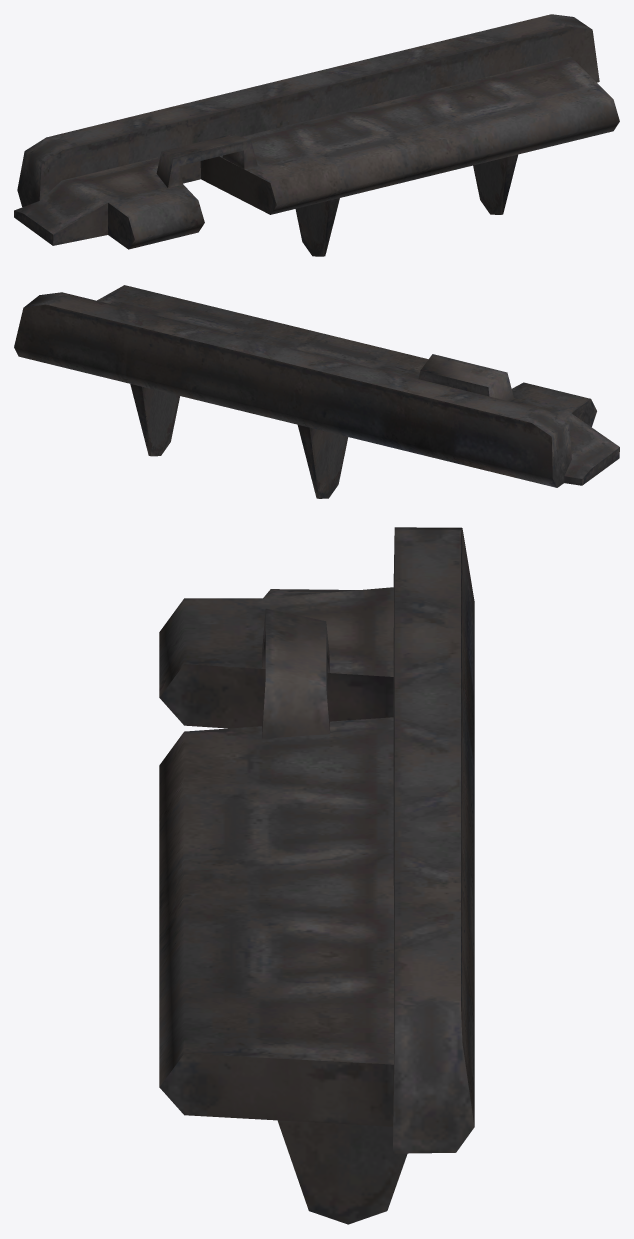
The model's file is Tiger_Track.FBX.
The picture shows the model from 3 angles, top to bottom: view 1: azimuth 30°, elevation 25°; view 2: azimuth 150°, elevation 25°; view 3: azimuth 270°, elevation 25°; orthographic projection. The views are drawn at different scales.
Visible parts, largest first — view 1: Tiger1_track; view 2: Tiger1_track; view 3: Tiger1_track.
Boxes of the visible parts, box(x1,y1,x2,y2) form: Tiger1_track: box(14, 14, 619, 256); Tiger1_track: box(14, 285, 619, 498); Tiger1_track: box(159, 527, 474, 1224).
Bounding box in the file's own units: 7.26 × 1.88 × 1.78.
